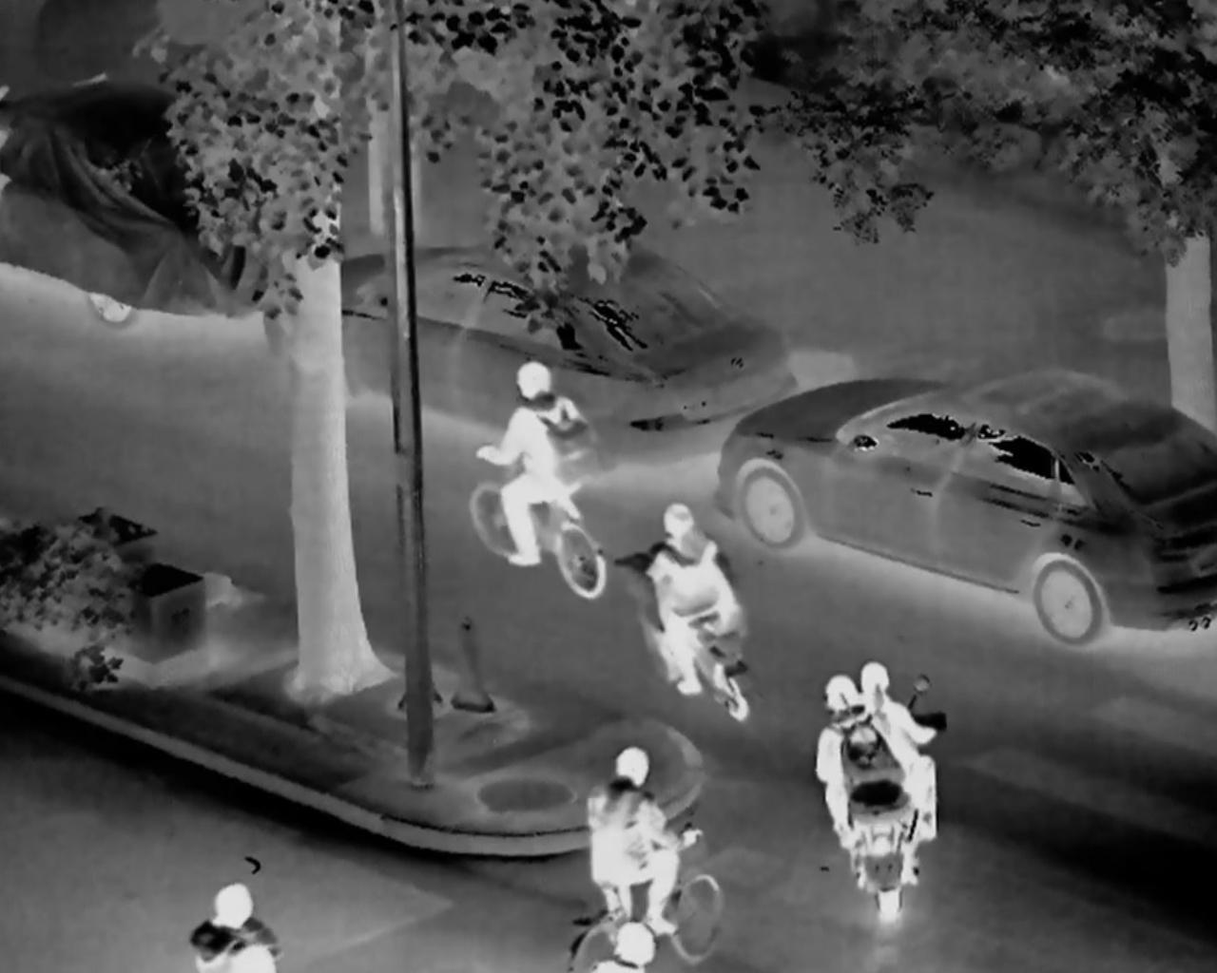person: (469, 355, 593, 591), (586, 738, 707, 973), (813, 670, 920, 878), (637, 504, 743, 705), (860, 658, 940, 838), (184, 876, 287, 973)
